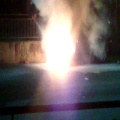fire: (42, 16, 75, 76)
